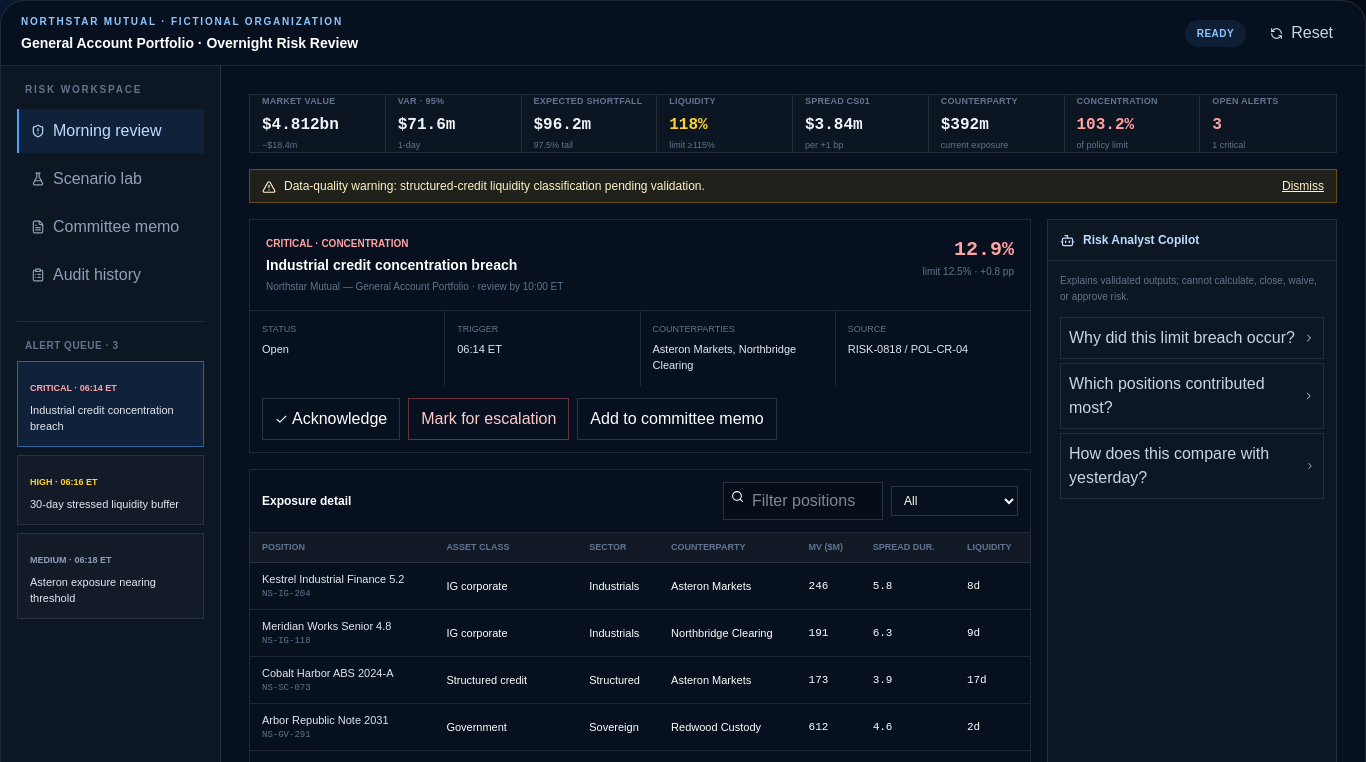
Risk Analyst Copilot simulation › shows a data warning, recovers from an error, and completely resets
Expected: the 2nd message shows "Data-quality warning", [284,179,705,193]
Click the button "Scenario lab". click: [110, 179]
box: [17,157,204,201]
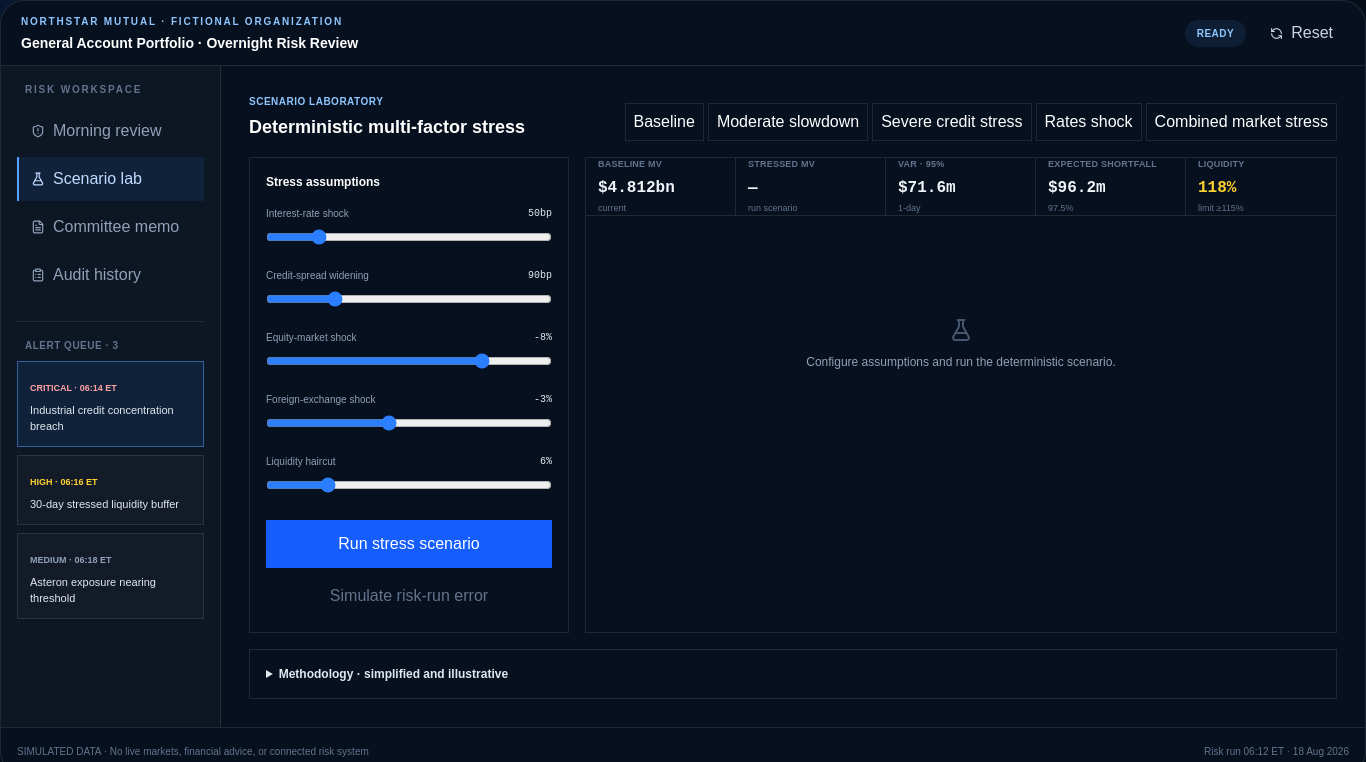
Click the button "Simulate risk-run error". click: [409, 596]
box: [266,576,552,616]
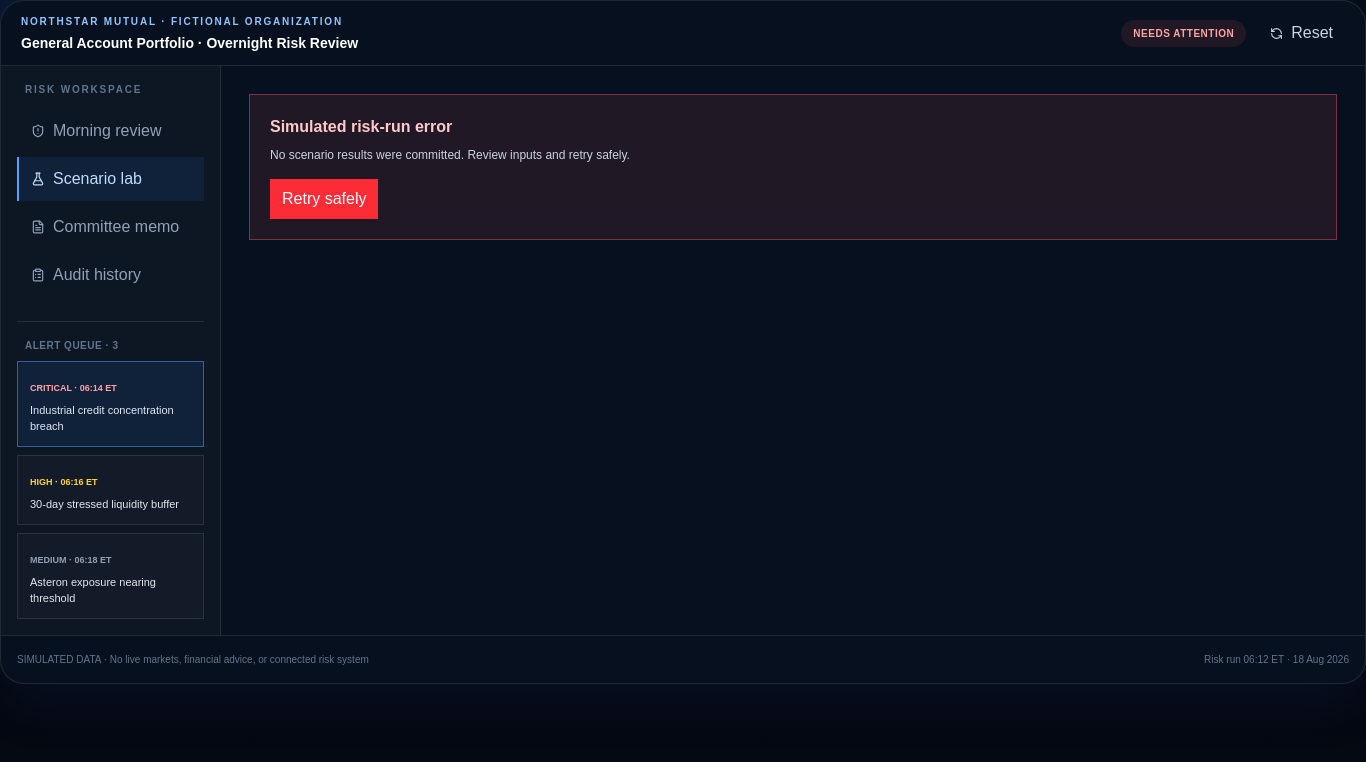
Expected: the message that starts with "Simulated risk-run error" is shown, [270,118,452,135]
Click the button "Retry safely". click: [324, 199]
box: [270,179,378,219]
Wait 400 ms
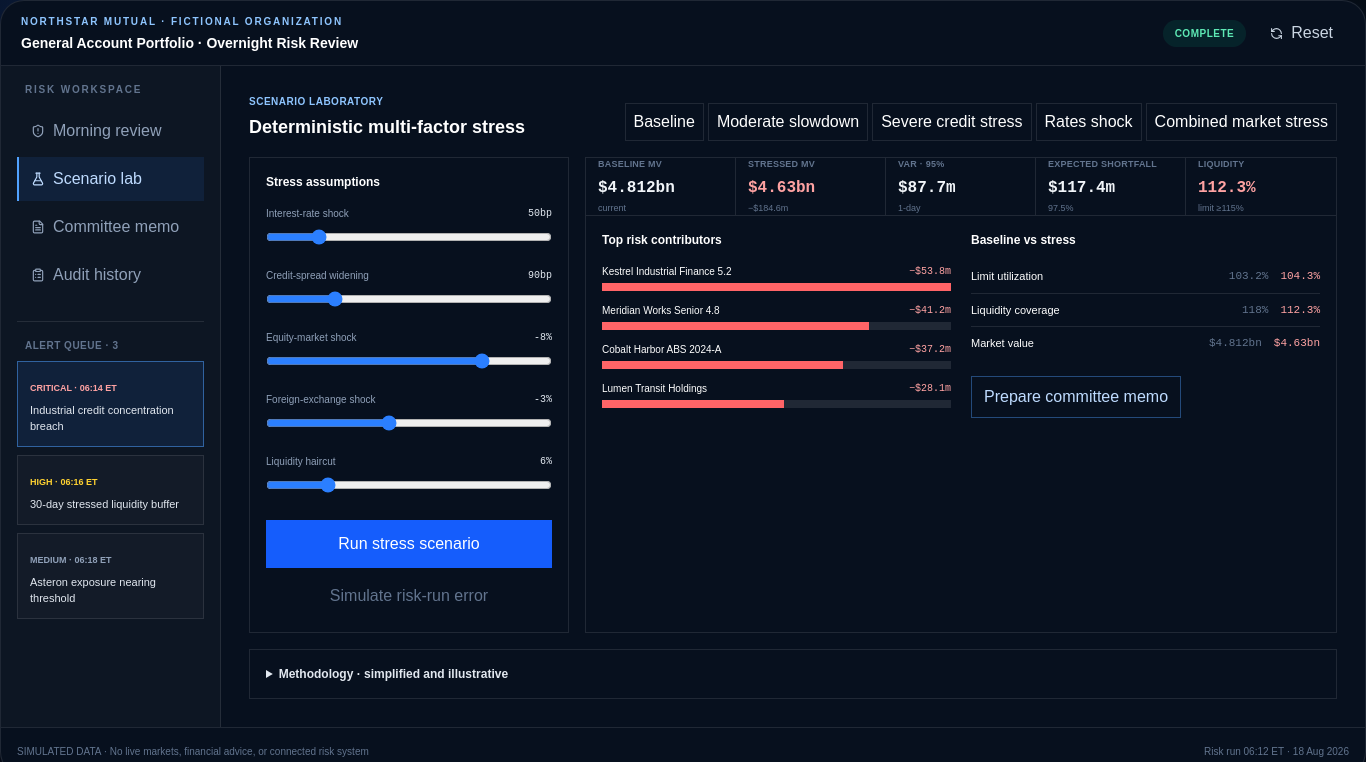
Expected: the heading "Top risk contributors" is shown, [602,233,722,247]
Click the button "Reset". click: [1302, 33]
box: [1258,13,1345,53]
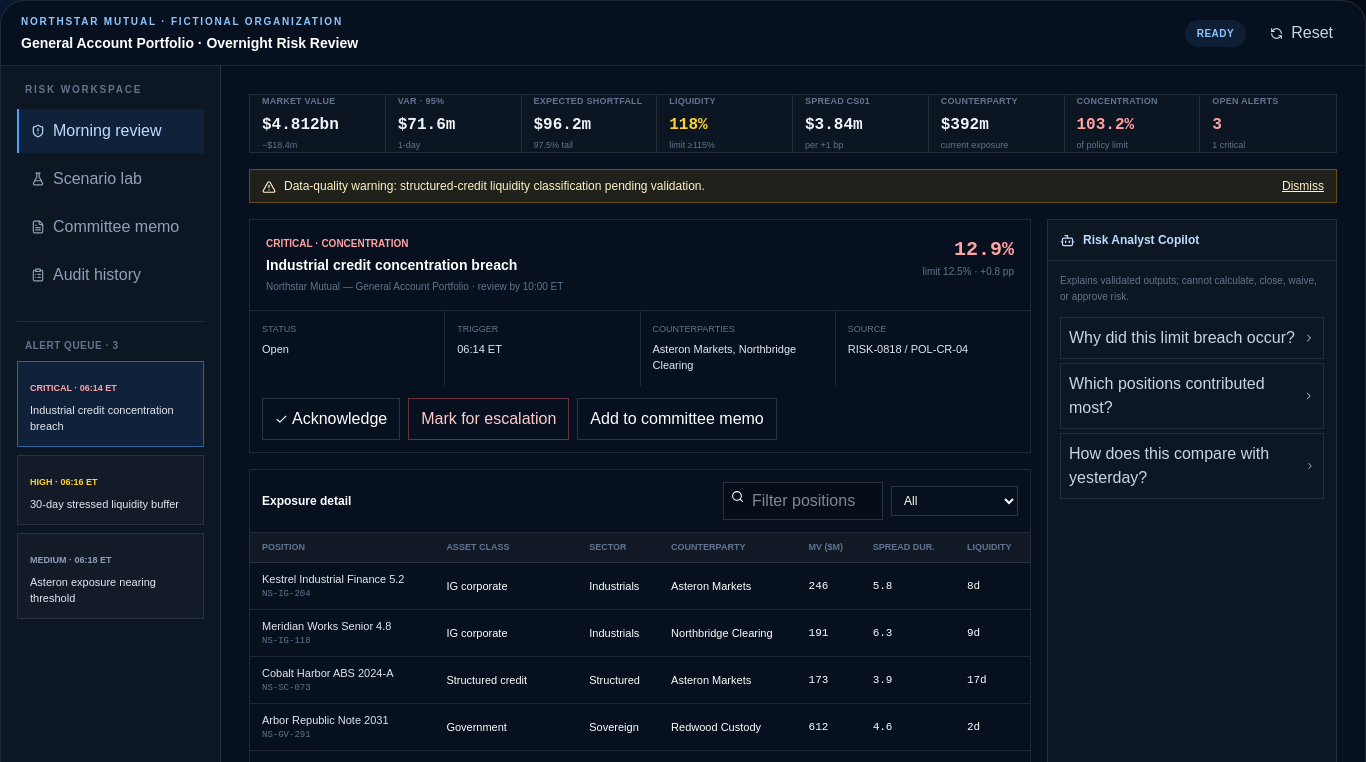
Expected: the text "Industrial credit concentration breach" is shown, [30,402,191,434]
Expected: the text "Open" is shown, [262,342,289,354]
